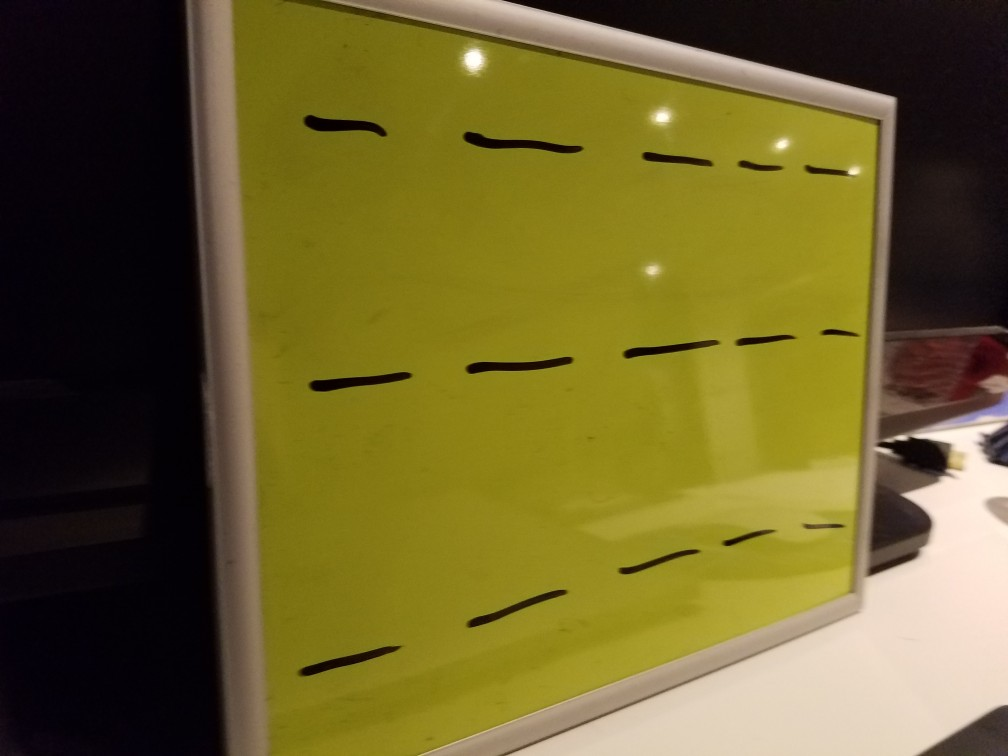-: (292, 345, 424, 407), (286, 87, 399, 159), (462, 115, 597, 175), (447, 582, 579, 642), (292, 627, 411, 692), (618, 316, 721, 373), (607, 530, 710, 587), (463, 346, 581, 388), (627, 134, 720, 187), (715, 510, 782, 556), (729, 320, 804, 360), (799, 147, 859, 193), (728, 142, 788, 186), (791, 506, 854, 542), (821, 315, 860, 352)
